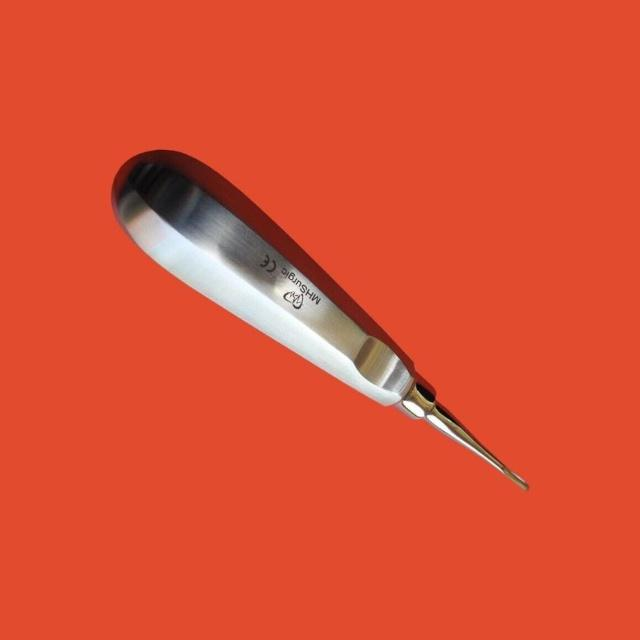botador: (109, 150, 530, 492)
